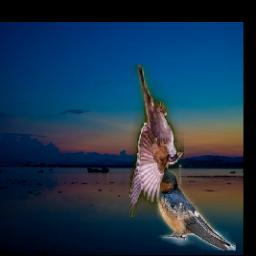Sparrow: (128, 66, 183, 218)
Swallow: (153, 170, 235, 251)
